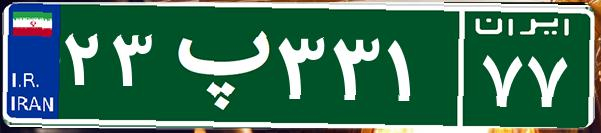1: (385, 28, 445, 110)
2: (57, 26, 110, 107)
3: (273, 28, 330, 110), (330, 28, 385, 110), (110, 28, 158, 105)
7: (475, 38, 525, 113), (525, 38, 570, 115)
پ: (158, 15, 273, 115)
